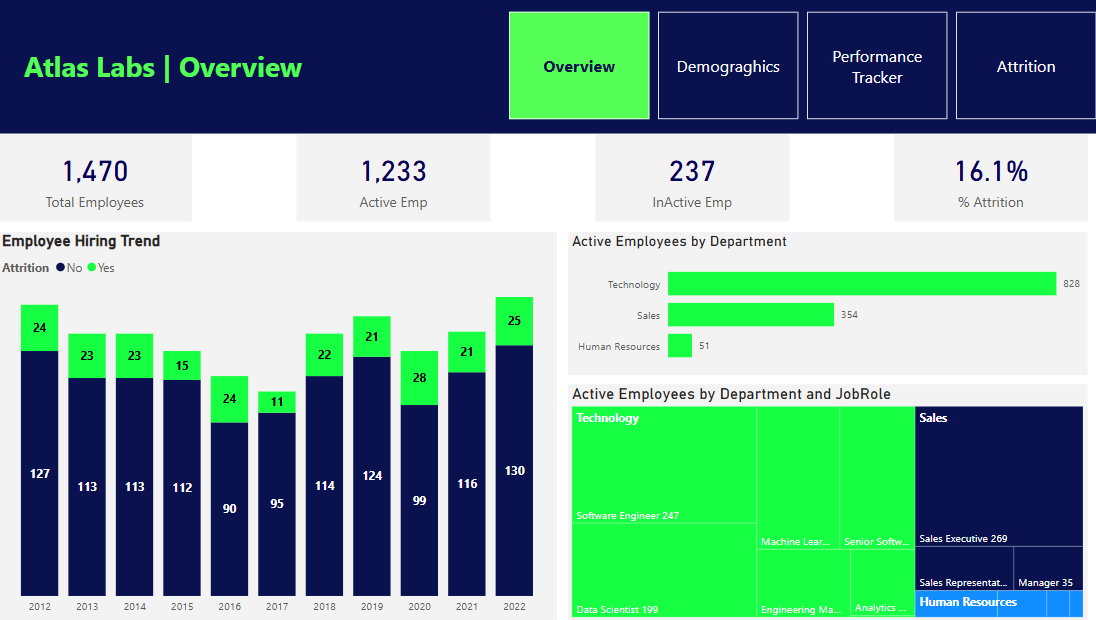

The dashboard page shown, as its layout file describes it:
{"tool":"powerbi","page":{"name":"Overview","canvas":[1280,720],"ordinal":0},"visuals":[{"type":"shape","box":[10,0,1270,156.4],"z":0},{"type":"pageNavigator","box":[599.6,16.2,680.4,124.4],"z":1000},{"type":"card","fields":{"Values":["Count(Employee.EmployeeID)"]},"box":[10,156.7,223.9,100.8],"z":2000},{"type":"card","fields":{"Values":["Employee.Active Emp"]},"box":[354.9,156.7,223.9,100.8],"z":3000},{"type":"card","fields":{"Values":["Employee.InActive Emp"]},"box":[699.9,156.7,223.9,100.8],"z":4000},{"type":"card","fields":{"Values":["Employee.% Attrition"]},"box":[1044.9,156.7,223.9,100.8],"z":5000},{"type":"columnChart","title":"Employee Hiring Trend","fields":{"Series":["Employee.Attrition"],"Category":["Employee.HireDate.Variation.Date Hierarchy.Year"],"Y":["Count(Employee.EmployeeID)"]},"box":[10,269.9,645.6,450.3],"z":6000},{"type":"clusteredBarChart","fields":{"Category":["Employee.Department"],"Y":["Employee.Active Emp"]},"box":[668,269.8,600.2,165.9],"z":7000},{"type":"treemap","title":"Active Employees by Department and JobRole","fields":{"Group":["Employee.Department"],"Values":["Employee.Active Emp"],"Details":["Employee.JobRole"]},"box":[668,445.8,600.2,274.1],"z":8000}]}

Visuals, with their boxes in screenshot pixels (x1, y1, x2, y2), scaled from the page's 1280x720 canvas onto the 1096x620 screenshot:
shape: 9/0/1095/135
pageNavigator: 513/14/1095/121
card - Count(Employee.EmployeeID): 9/135/200/222
card - Employee.Active Emp: 304/135/496/222
card - Employee.InActive Emp: 599/135/791/222
card - Employee.% Attrition: 895/135/1086/222
"Employee Hiring Trend" columnChart: 9/232/561/619
clusteredBarChart - Employee.Department x Employee.Active Emp: 572/232/1086/375
"Active Employees by Department and JobRole" treemap: 572/384/1086/619
